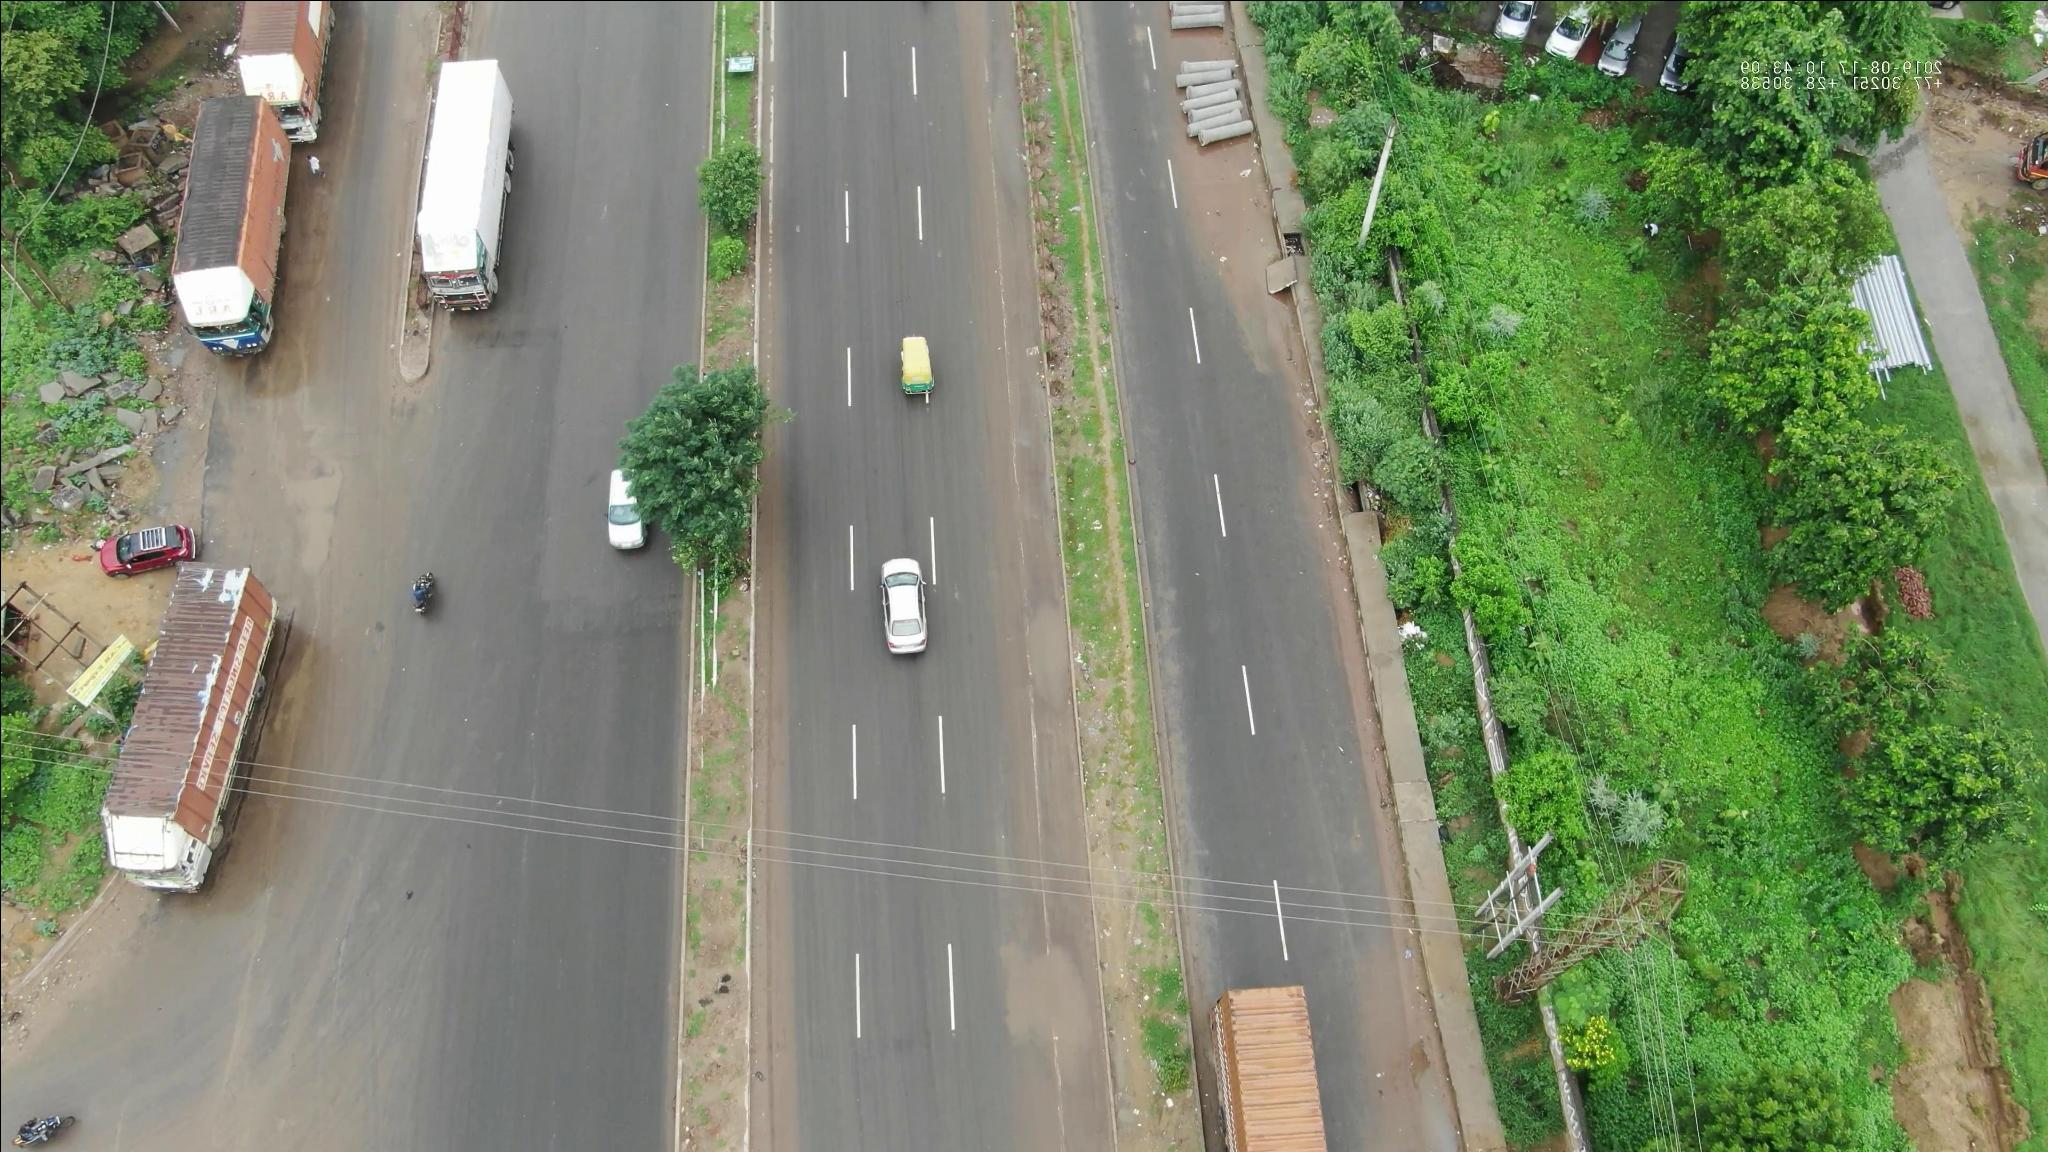Potholes: (1144, 561, 1204, 813), (280, 442, 370, 585)
